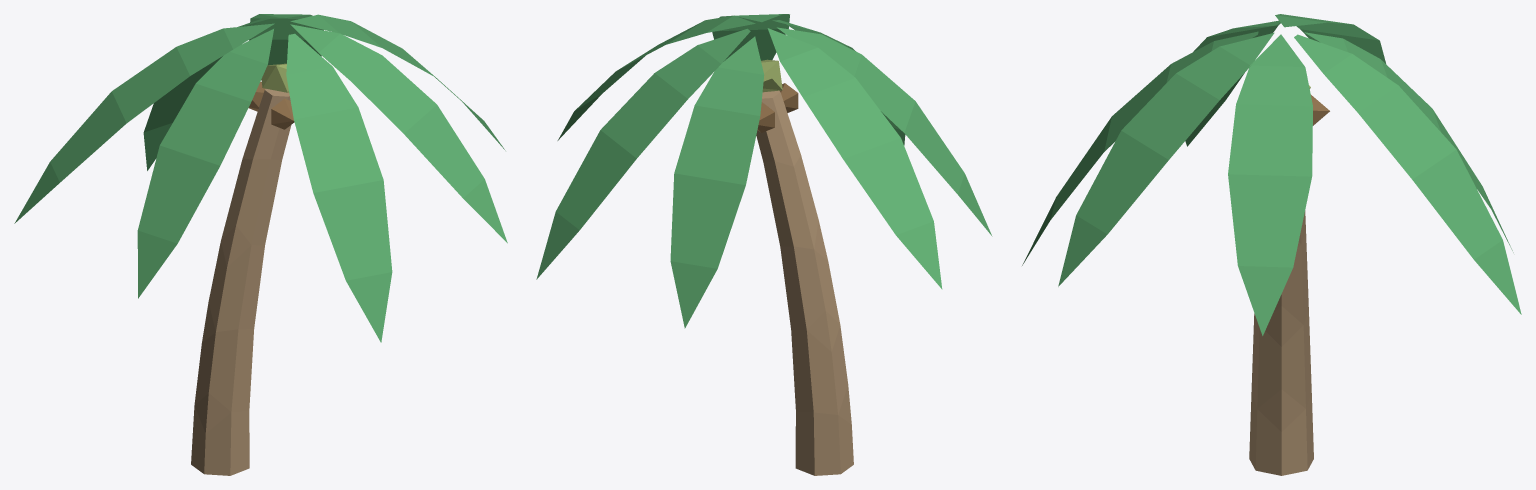
The model's file is 50-Vegetacion_palmera.glb.
3 renders of one model, left to right at view 1: azimuth 30°, elevation 25°; view 2: azimuth 150°, elevation 25°; view 3: azimuth 270°, elevation 25°, orthographic. The views are drawn at different scales.
Parts seen in each view (by area): view 1: SM_Tronco_M_Hoja_Palmera, SM_Tronco_M_Tronco_Palmera, SM_Tronco_M_Coco, SM_Tronco_M_Corazon_Corona; view 2: SM_Tronco_M_Hoja_Palmera, SM_Tronco_M_Tronco_Palmera, SM_Tronco_M_Coco, SM_Tronco_M_Corazon_Corona; view 3: SM_Tronco_M_Hoja_Palmera, SM_Tronco_M_Tronco_Palmera.
Part boxes in pixels (x1=…): SM_Tronco_M_Hoja_Palmera: x1=14, y1=14, x2=507, y2=342; SM_Tronco_M_Tronco_Palmera: x1=191, y1=89, x2=291, y2=475; SM_Tronco_M_Coco: x1=248, y1=81, x2=294, y2=129; SM_Tronco_M_Corazon_Corona: x1=261, y1=63, x2=288, y2=92; SM_Tronco_M_Hoja_Palmera: x1=536, y1=14, x2=992, y2=328; SM_Tronco_M_Tronco_Palmera: x1=756, y1=90, x2=853, y2=475; SM_Tronco_M_Coco: x1=757, y1=83, x2=798, y2=132; SM_Tronco_M_Corazon_Corona: x1=761, y1=59, x2=782, y2=92; SM_Tronco_M_Hoja_Palmera: x1=1022, y1=14, x2=1521, y2=335; SM_Tronco_M_Tronco_Palmera: x1=1249, y1=210, x2=1313, y2=475.
Bounding box in the file's own units: 5 × 4.62 × 4.52.
